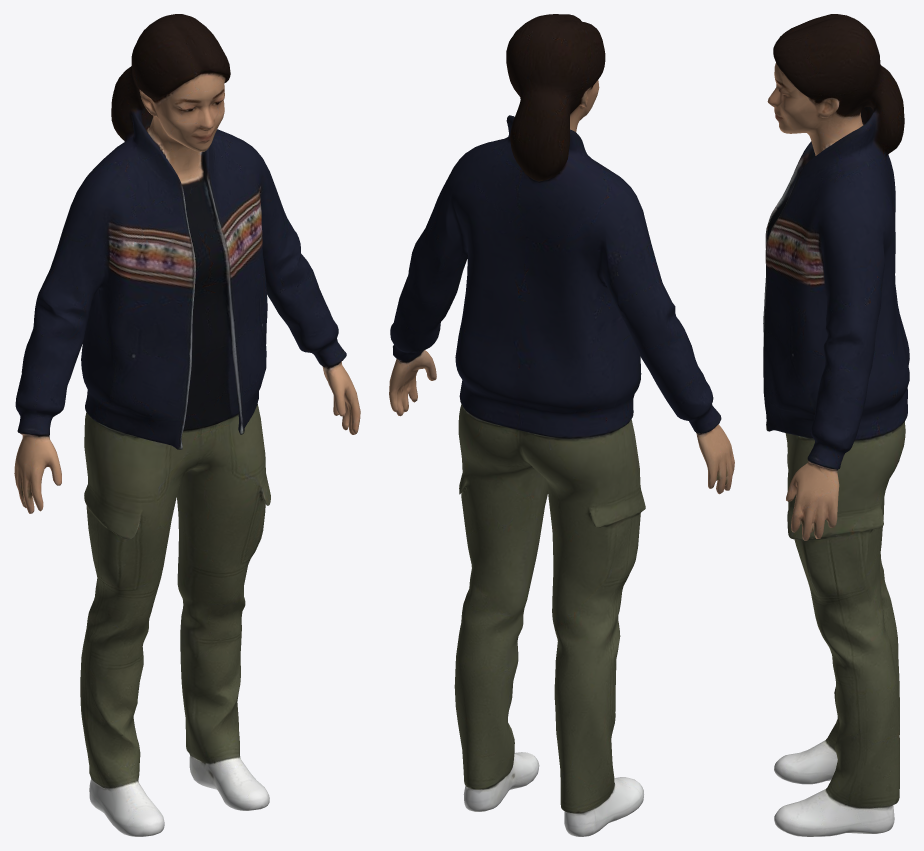
Rendered from avatar2.glb.
The picture shows the model from 3 angles, left to right: view 1: azimuth 30°, elevation 25°; view 2: azimuth 150°, elevation 25°; view 3: azimuth 270°, elevation 25°; orthographic projection.
Bounding box in the file's own units: 0.8414 × 1.9 × 0.321.
1 material, 1 textured.
